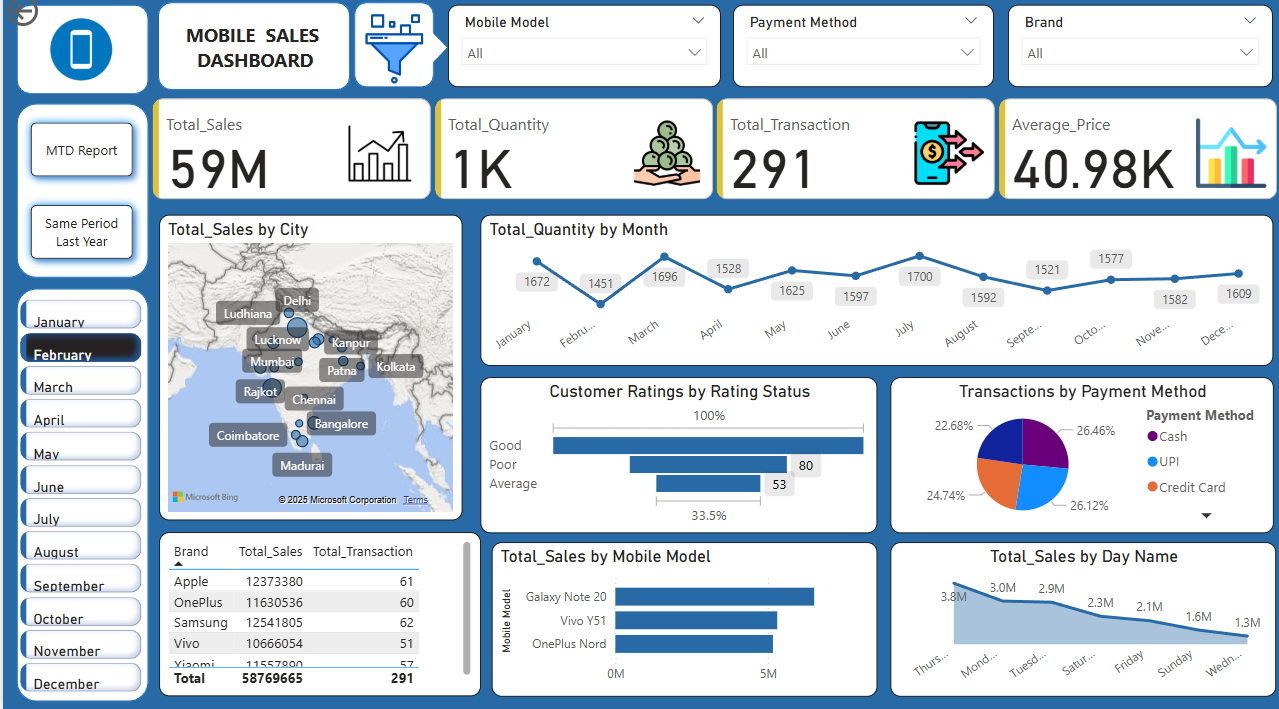

This screenshot's page, from the dashboard's own definition file:
{"tool":"powerbi","page":{"name":"Dashboard","canvas":[1280,720],"ordinal":0},"visuals":[{"type":"shape","box":[13.7,13.7,131.7,89.2],"z":0},{"type":"image","box":[26.1,20.6,104.3,76.8],"z":1000},{"type":"shape","box":[13.7,112.5,131.7,174.3],"z":2000},{"type":"shape","box":[13.7,297.8,131.7,413],"z":3000},{"type":"cardVisual","fields":{"Data":["Sales_Data.Total_Sales","Sales_Data.Total_Quantity","Sales_Data.Total_Transaction","Sales_Data.Average_Price"]},"box":[145.5,102.9,1134.8,111.1],"z":5000},{"type":"slicer","fields":{"Values":["Sales_Data.Mobile Model"]},"box":[444.6,13.7,273.1,82.3],"z":6000},{"type":"slicer","fields":{"Values":["Sales_Data.Payment Method"]},"box":[730,13.7,260.7,82.3],"z":7000},{"type":"slicer","fields":{"Values":["Sales_Data.Brand"]},"box":[1004.5,13.7,264.8,82.3],"z":8000},{"type":"shape","box":[351.3,11,79.6,85.1],"z":9000},{"type":"shape","box":[369.1,17.8,75.5,78.2],"z":10000},{"type":"image","box":[323.8,17.8,134.5,81],"z":11000},{"type":"shape","box":[155.1,11,192.1,87.8],"z":12000},{"type":"textbox","box":[166,26.1,171.5,60.4],"z":13000},{"type":"lineChart","fields":{"Category":["Custom_Calendar.Date.Variation.Date Hierarchy.Month"],"Y":["Sales_Data.Total_Quantity"]},"box":[477.1,224.3,792.9,151.4],"z":15000},{"type":"funnel","title":"Customer Ratings by Rating Status","fields":{"Category":["Sales_Data.Rating Status"],"Y":["CountNonNull(Sales_Data.Customer Ratings)"]},"box":[477.1,385.7,397.1,155.7],"z":16000},{"type":"pieChart","title":"Transactions by Payment Method","fields":{"Category":["Sales_Data.Payment Method"],"Y":["Sales_Data.Total_Transaction"]},"box":[887.1,385.7,382.9,155.7],"z":17000},{"type":"clusteredBarChart","fields":{"Y":["Sales_Data.Total_Sales"],"Category":["Sales_Data.Mobile Model"]},"box":[488.6,551.4,385.7,154.3],"z":18000},{"type":"areaChart","fields":{"Y":["Sales_Data.Total_Sales"],"Category":["Custom_Calendar.Day Name"]},"box":[887.1,551.4,385.7,154.3],"z":19000},{"type":"tableEx","fields":{"Values":["Sales_Data.Brand","Sales_Data.Total_Sales","Sales_Data.Total_Transaction"]},"box":[155.7,541.4,321.4,164.3],"z":20000},{"type":"actionButton","box":[0,0,100,40],"z":21000},{"type":"pageNavigator","box":[18.6,122.9,120,154.3],"z":22000},{"type":"slicer","fields":{"Values":["Custom_Calendar.Date.Variation.Date Hierarchy.Month"]},"box":[14.5,296.8,130.3,404.2],"z":23001},{"type":"filledMap","fields":{"Category":["Sales_Data.City"],"Y":["Sales_Data.Total_Transaction"]},"box":[155.6,224.4,311.3,308.8],"z":23502}]}

Visuals, with their boxes in screenshot pixels (x1, y1, x2, y2), scaled from the page's 1280x720 canvas onto the 1279x709 screenshot:
shape: pyautogui.locateOnScreen(14, 13, 145, 101)
image: pyautogui.locateOnScreen(26, 20, 130, 96)
shape: pyautogui.locateOnScreen(14, 111, 145, 282)
shape: pyautogui.locateOnScreen(14, 293, 145, 700)
cardVisual - Sales_Data.Total_Sales x Sales_Data.Total_Quantity: pyautogui.locateOnScreen(145, 101, 1278, 211)
slicer - Sales_Data.Mobile Model: pyautogui.locateOnScreen(444, 13, 717, 95)
slicer - Sales_Data.Payment Method: pyautogui.locateOnScreen(729, 13, 990, 95)
slicer - Sales_Data.Brand: pyautogui.locateOnScreen(1004, 13, 1268, 95)
shape: pyautogui.locateOnScreen(351, 11, 431, 95)
shape: pyautogui.locateOnScreen(369, 18, 444, 95)
image: pyautogui.locateOnScreen(324, 18, 458, 97)
shape: pyautogui.locateOnScreen(155, 11, 347, 97)
textbox: pyautogui.locateOnScreen(166, 26, 337, 85)
lineChart - Custom_Calendar.Date.Variation.Date Hierarchy.Month x Sales_Data.Total_Quantity: pyautogui.locateOnScreen(477, 221, 1269, 370)
"Customer Ratings by Rating Status" funnel: pyautogui.locateOnScreen(477, 380, 874, 533)
"Transactions by Payment Method" pieChart: pyautogui.locateOnScreen(886, 380, 1269, 533)
clusteredBarChart - Sales_Data.Total_Sales x Sales_Data.Mobile Model: pyautogui.locateOnScreen(488, 543, 874, 695)
areaChart - Sales_Data.Total_Sales x Custom_Calendar.Day Name: pyautogui.locateOnScreen(886, 543, 1272, 695)
tableEx - Sales_Data.Brand x Sales_Data.Total_Sales: pyautogui.locateOnScreen(156, 533, 477, 695)
actionButton: pyautogui.locateOnScreen(0, 0, 100, 39)
pageNavigator: pyautogui.locateOnScreen(19, 121, 138, 273)
slicer - Custom_Calendar.Date.Variation.Date Hierarchy.Month: pyautogui.locateOnScreen(14, 292, 145, 690)
filledMap - Sales_Data.City x Sales_Data.Total_Transaction: pyautogui.locateOnScreen(155, 221, 467, 525)
